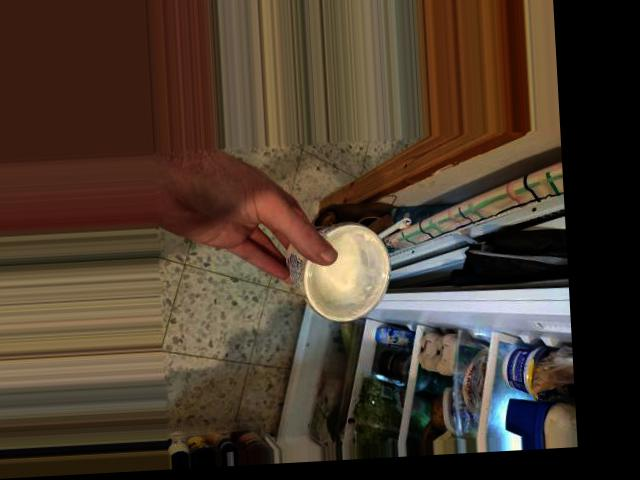cotage: (278, 216, 405, 319)
